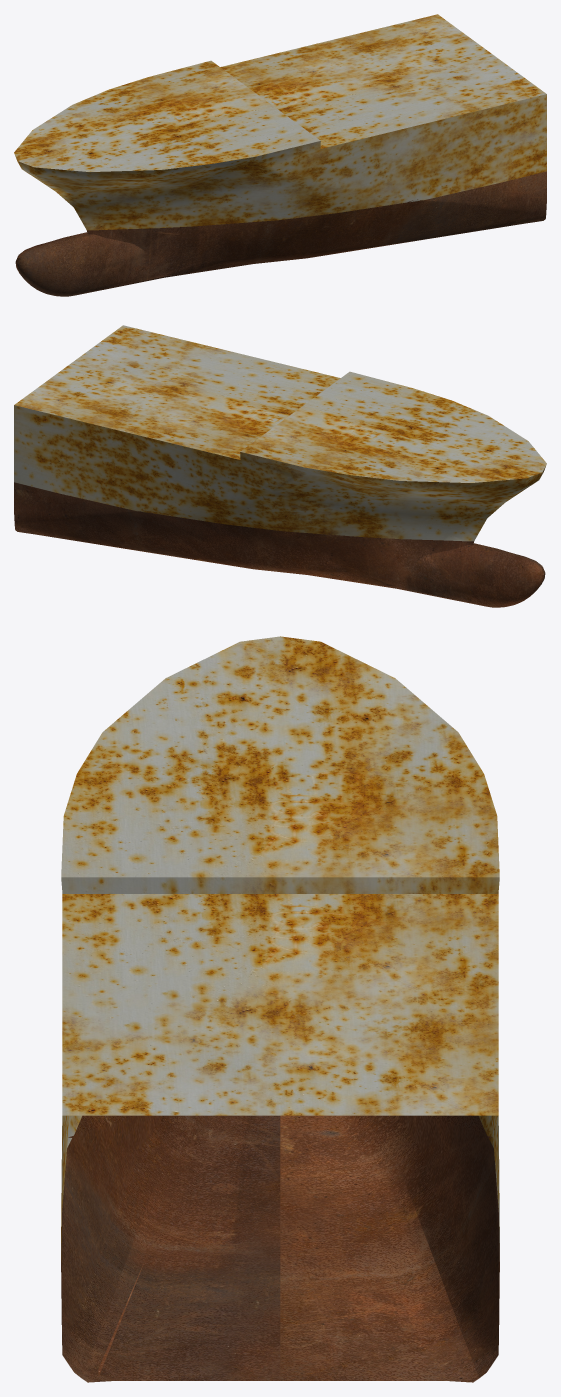
File: ship.glb
3 renders of one model, top to bottom at view 1: azimuth 30°, elevation 25°; view 2: azimuth 150°, elevation 25°; view 3: azimuth 270°, elevation 25°, orthographic. The views are drawn at different scales.
Parts seen in each view (by area): view 1: Cone.002; view 2: Cone.002; view 3: Cone.002.
Boxes of the visible parts, x1,y1,x2,y2 form: Cone.002: (14,14,546,296); Cone.002: (14,325,546,607); Cone.002: (61,636,499,1382).
Bounding box in the file's own units: 5.75 × 1.68 × 2.29.
Materials: 3 (3 with a texture image).
